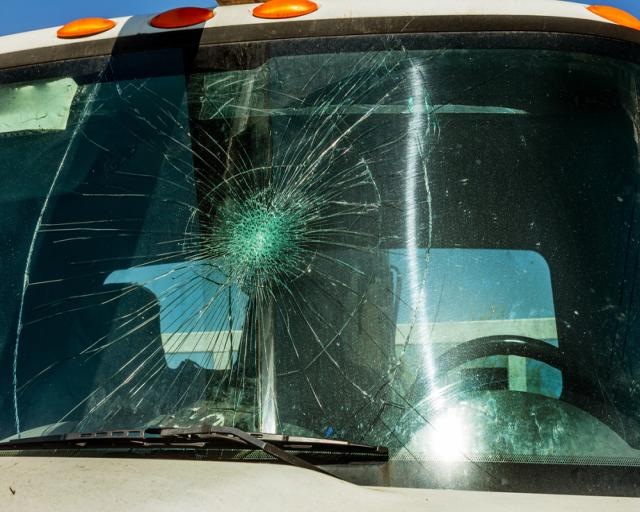glass shatter: (0, 31, 640, 499)
